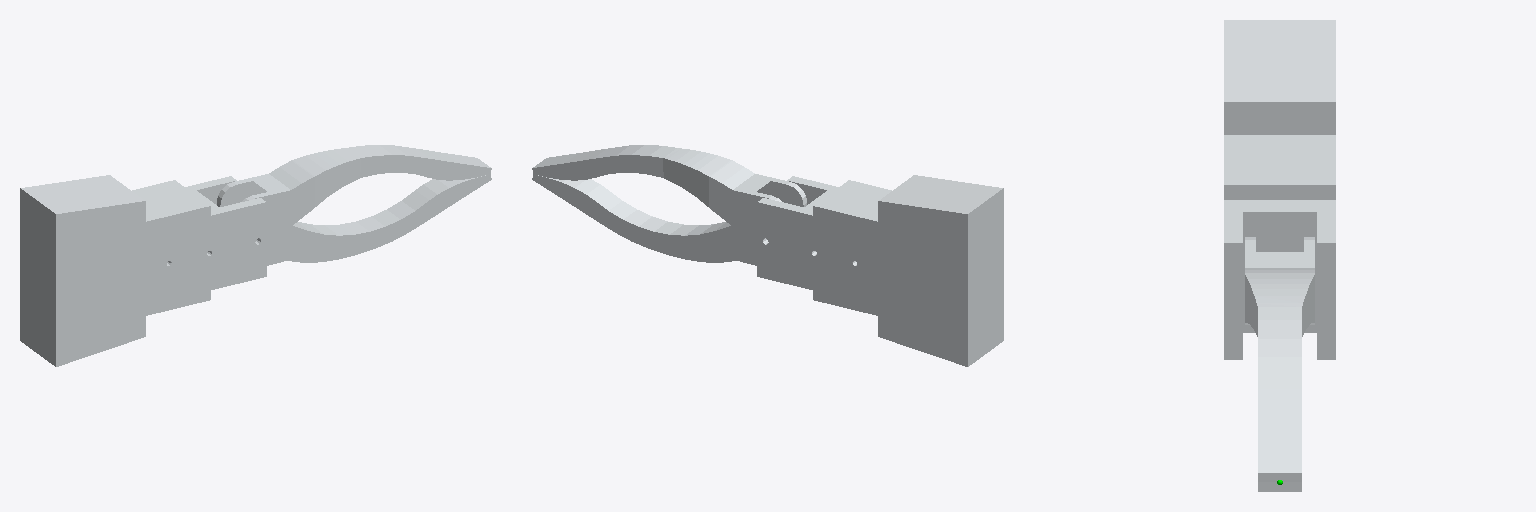
URDF robot description (gripper):
<?xml version="1.0" encoding="utf-8"?>
<!-- =================================================================================== -->
<!-- |    This document was autogenerated by xacro from ur5.urdf.xacro              | -->
<!-- |    EDITING THIS FILE BY HAND IS NOT RECOMMENDED                                 | -->
<!-- =================================================================================== -->
<robot name="gripper">
    <material name="gray">
        <color rgba="0.89804 0.91765 0.92941 1"/>
    </material>

    <link name="gripper_base">
        <inertial>
            <origin rpy="0 0 0" xyz="-0.020421 1.7659E-18 6.5869E-19"/>
            <mass value="0.18"/>
            <inertia ixx="1.0" ixy="0.0" ixz="0.0" iyy="1.0" iyz="0.0" izz="1.0"/>
        </inertial>
        <visual>
            <origin rpy="0 0 0" xyz="0 0 0"/>
            <geometry>
                <mesh filename="meshes/wrist.STL"/>
            </geometry>
            <material name="gray"/>
        </visual>
        <collision>
            <origin rpy="0 0 0" xyz="0 0 0"/>
            <geometry>
                <mesh filename="meshes/wrist.STL"/>
            </geometry>
        </collision>
    </link>

    <link name="wide_finger_link">
        <inertial>
            <origin rpy="0 0 0" xyz="0.056976 0.015337 -2.3122E-09"/>
            <mass value="0.0167"/>
            <inertia ixx="1.0" ixy="-0.01" ixz="0.0" iyy="1.0" iyz="0.0" izz="1.0"/>
        </inertial>
        <visual>
            <origin rpy="0 0 0" xyz="0 0 0"/>
            <geometry>
                <mesh filename="meshes/wide_finger.STL"/>
            </geometry>
            <material name="gray"/>
        </visual>
        <collision>
            <origin rpy="0 0 0" xyz="0 0 0"/>
            <geometry>
                <mesh filename="meshes/wide_finger.STL"/>
            </geometry>
        </collision>
    </link>

    <joint name="wide_finger_joint" type="revolute">
        <origin rpy="1.5708 0.013333 -8.164E-19" xyz="0.055 0 0"/>
        <parent link="gripper_base"/>
        <child link="wide_finger_link"/>
        <axis xyz="0 0 1"/>
        <limit effort="6.6" lower="-1.0472" upper="1.0472" velocity="8.0"/>
    </joint>

    <link name="wide_finger_tip">
        <inertial>
            <mass value="0.0"/>
            <origin rpy="0 0 0" xyz="0.0 0.0 0.0"/>
            <inertia ixx="0.0" ixy="0.0" ixz="0.0" iyy="0.0" iyz="0.0" izz="0.0"/>
        </inertial>
        <visual>
            <origin rpy="0 0 0" xyz="0 0 0"/>
            <geometry>
                <sphere radius="0.001"/>
            </geometry>
            <material name="green">
                <color rgba="0 1.0 0 1.0"/>
            </material>
        </visual>
    </link>

    <joint name="wide_finger_tip_joint" type="fixed">
        <axis xyz="0 0 1"/>
        <origin xyz="0.15 0.002 0"/>
        <parent link="wide_finger_link"/>
        <child link="wide_finger_tip"/>
    </joint>

    <link name="narrow_finger_link">
        <inertial>
            <origin rpy="0 0 0" xyz="0.052556 0.013896 2.3305E-07"/>
            <mass value="0.016641"/>
            <inertia ixx="1.0" ixy="-0.03" ixz="0.0" iyy="1.0" iyz="0.0" izz="1.0"/>
        </inertial>
        <visual>
            <origin rpy="0 0 0" xyz="0 0 0"/>
            <geometry>
                <mesh filename="meshes/narrow_finger.STL"/>
            </geometry>
            <material name="gray"/>
        </visual>
        <collision>
            <origin rpy="0 0 0" xyz="0 0 0"/>
            <geometry>
                <mesh filename="meshes/narrow_finger.STL"/>
            </geometry>
        </collision>
    </link>

    <joint name="narrow_finger_joint" type="revolute">
        <axis xyz="0 0 -1"/>
        <origin rpy="1.5708 0.013333 8.164E-19" xyz="0.055 0 0"/>
        <parent link="gripper_base"/>
        <child link="narrow_finger_link"/>
        <limit effort="6.6" lower="-1.0472" upper="1.0472" velocity="8.0"/>
    </joint>

</robot>

--- What the picture shows (computed from the rendered views, not written in the file) ---
3 views of the same robot in one strip: view 1: azimuth 30°, elevation 25°; view 2: azimuth 150°, elevation 25°; view 3: azimuth 270°, elevation 25° (orthographic).
Robot: gripper — 4 links, 3 joints (2 revolute, 1 fixed); root link gripper_base; default pose: every joint at zero.
Visible links, largest first — view 1: gripper_base, wide_finger_link, narrow_finger_link; view 2: gripper_base, wide_finger_link, narrow_finger_link; view 3: gripper_base, wide_finger_link.
Boxes of the visible links, x1,y1,x2,y2 form: gripper_base: (20,175,266,366); wide_finger_link: (217,145,491,240); narrow_finger_link: (267,174,491,265); gripper_base: (757,175,1003,366); wide_finger_link: (532,145,806,240); narrow_finger_link: (532,174,756,265); gripper_base: (1224,20,1335,359); wide_finger_link: (1245,237,1314,481).
Size in the robot's own frame: 0.2755 by 0.038 by 0.09 metres.
3 mesh visuals loaded from 3 distinct referenced files (3 binary STL).